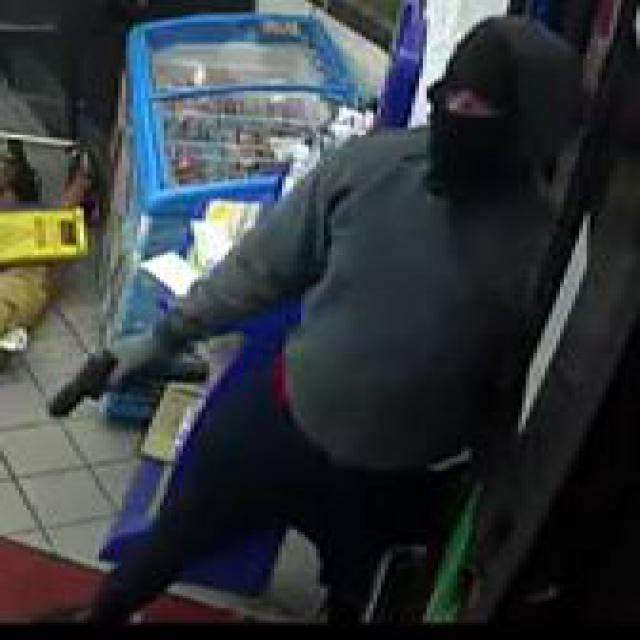gun: (42, 338, 164, 417)
